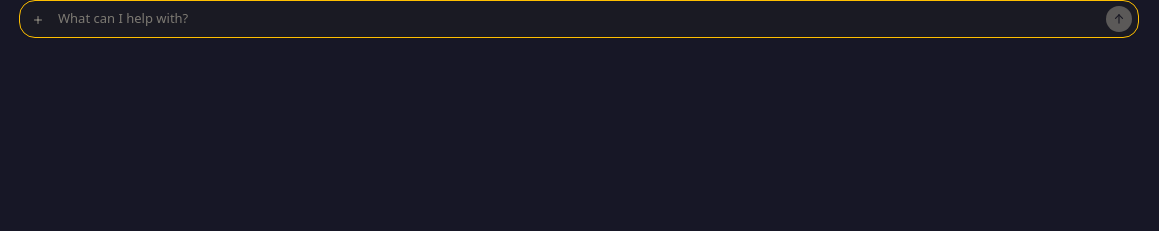
Composer prompt picker › the button opens a searchable list that loads on open; choosing inserts the text with the first blank selected
The width and height of the screenshot is (1159, 231).
Click the button named "Add files or saved prompts" at (38,20), box [26,8,50,32]
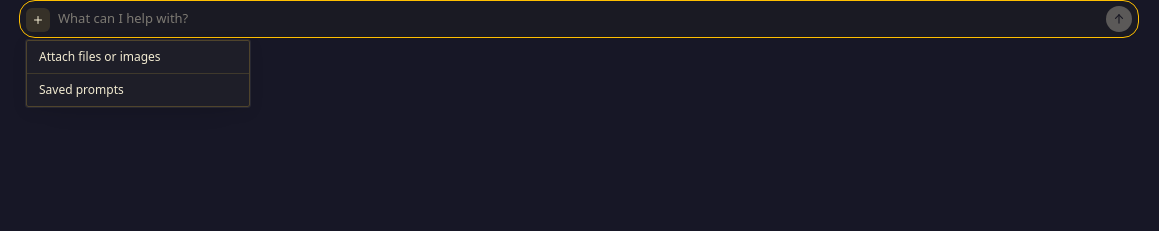
Click the menu item with aria-label "Insert a saved prompt" at (81,90), box [39,81,124,98]
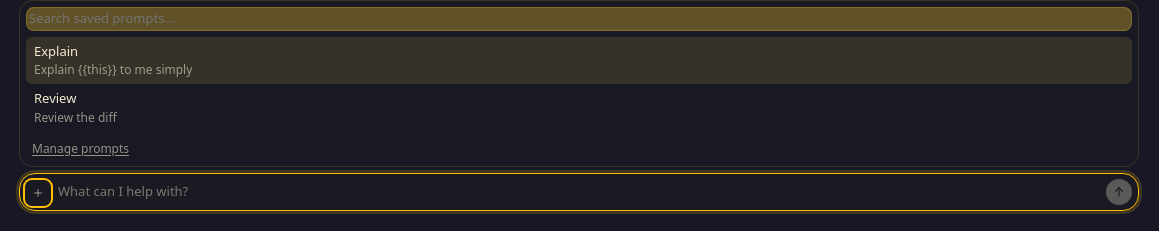
Result: the option "Explain Explain {{this}} to me simply" is shown at [26,36,1132,84]
Type "expl" into the field named "Search prompts" at (579,19), box [26,7,1132,30]
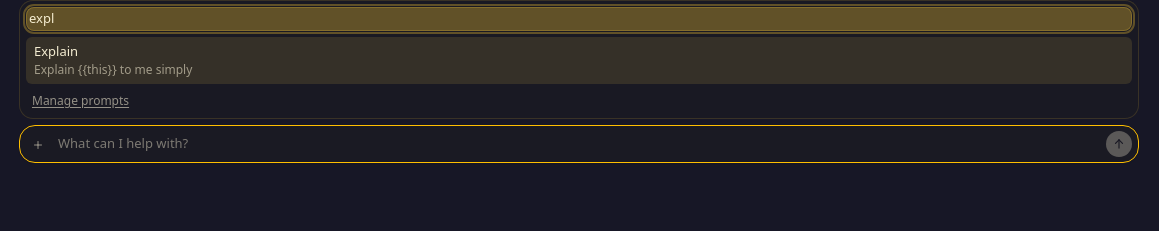
Result: the number of options is 1
Click the option "Explain Explain {{this}} to me simply" at (56,50), box [26,36,1132,84]
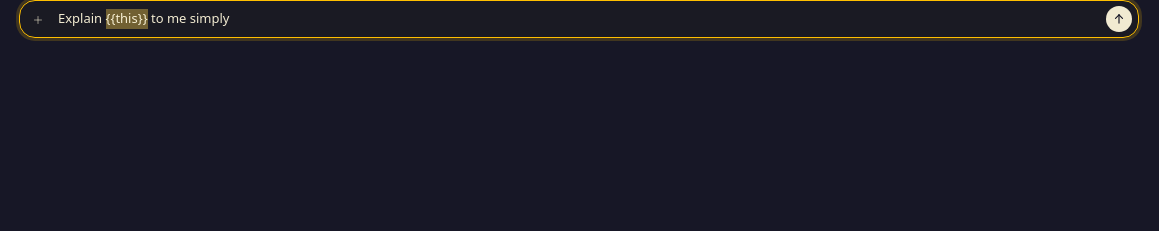
Result: the text box named "Message" holds "Explain {{this}} to me simply" at [54,6,1102,32]
